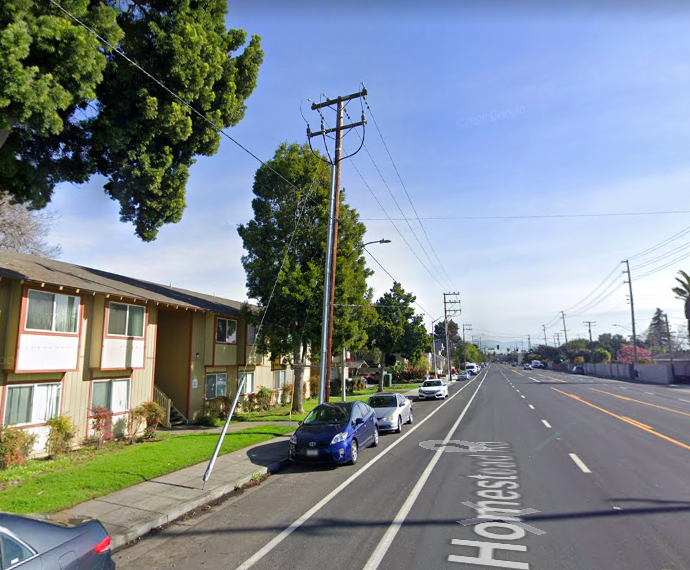utility_pole: (300, 80, 371, 157)
